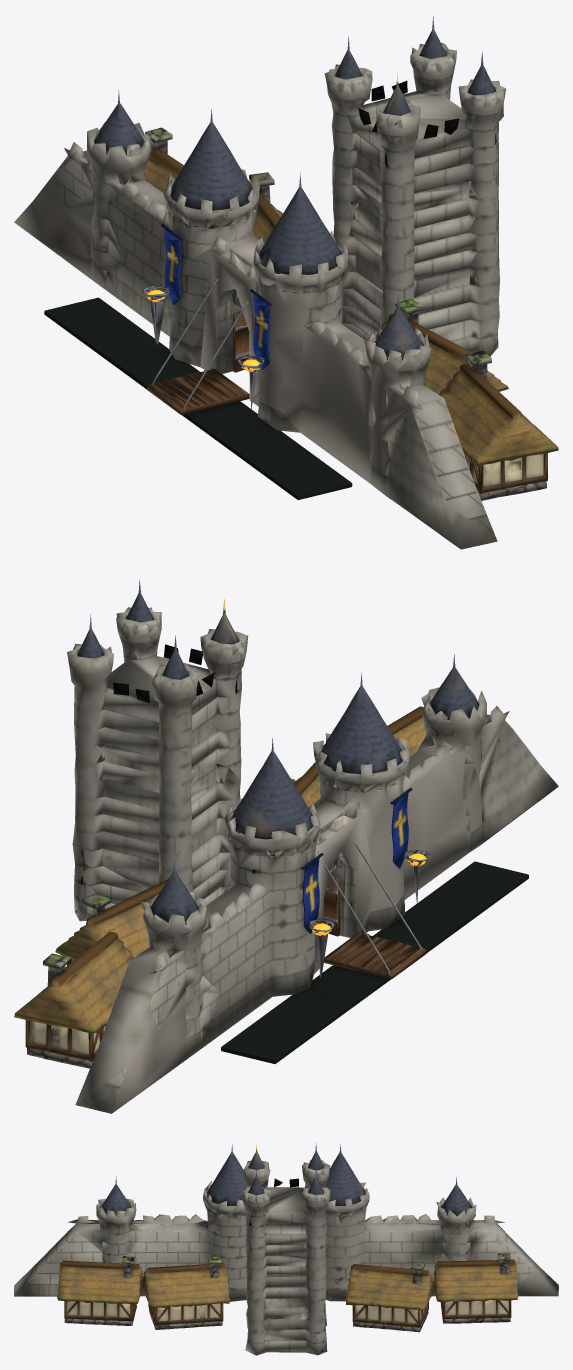
The model's file is medieval_city.glb.
3 views of the same model, one above another, from view 1: azimuth 30°, elevation 25°; view 2: azimuth 150°, elevation 25°; view 3: azimuth 270°, elevation 25° (orthographic). The views are drawn at different scales.
Parts seen in each view (by area): view 1: City; view 2: City; view 3: City.
Boxes of the visible parts, box(x1,y1,x2,y2) form: City: box(14, 16, 558, 549); City: box(14, 580, 558, 1113); City: box(14, 1143, 558, 1355).
Size of the model in its own units: 5.72 by 5.32 by 14.09.
Materials: 2 (1 with a texture image).
